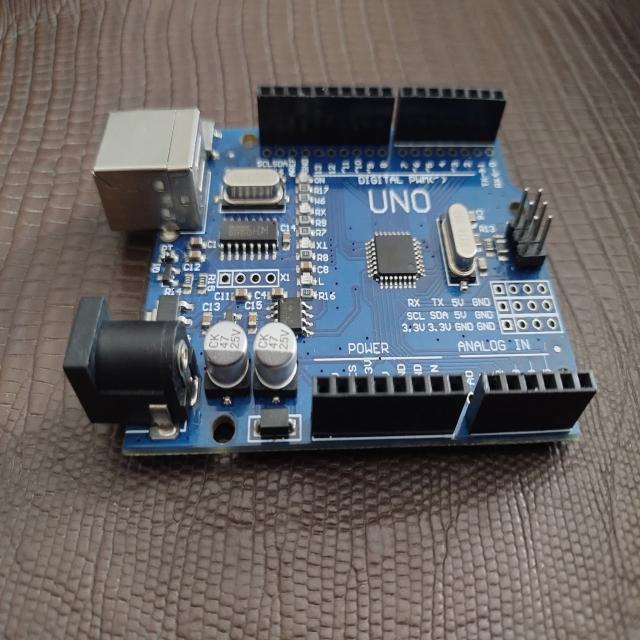arduino: (57, 74, 604, 470)
